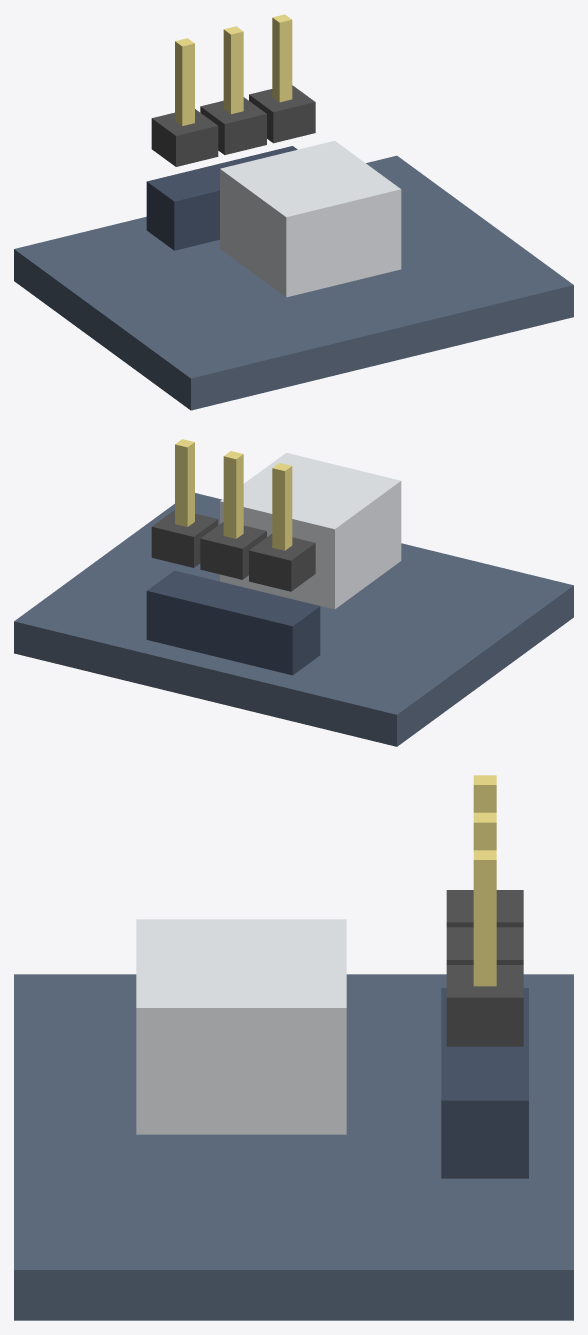
File: slide-potentiometer.glb
3 renders of one model, top to bottom at view 1: azimuth 30°, elevation 25°; view 2: azimuth 150°, elevation 25°; view 3: azimuth 270°, elevation 25°, orthographic. The views are drawn at different scales.
Parts seen in each view (by area): view 1: slide-potentiometer-10k_mesh; view 2: slide-potentiometer-10k_mesh; view 3: slide-potentiometer-10k_mesh.
Part boxes in pixels (box(x1,y1,x2,y2)): slide-potentiometer-10k_mesh: box(14, 14, 573, 410); slide-potentiometer-10k_mesh: box(14, 439, 573, 746); slide-potentiometer-10k_mesh: box(14, 775, 573, 1320).
Bounding box in the file's own units: 20 × 11.2 × 16.
